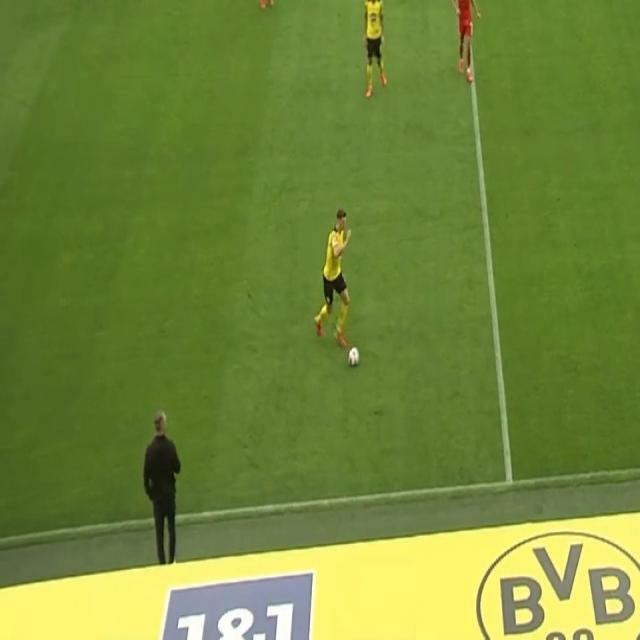ball: (347, 345, 360, 369)
